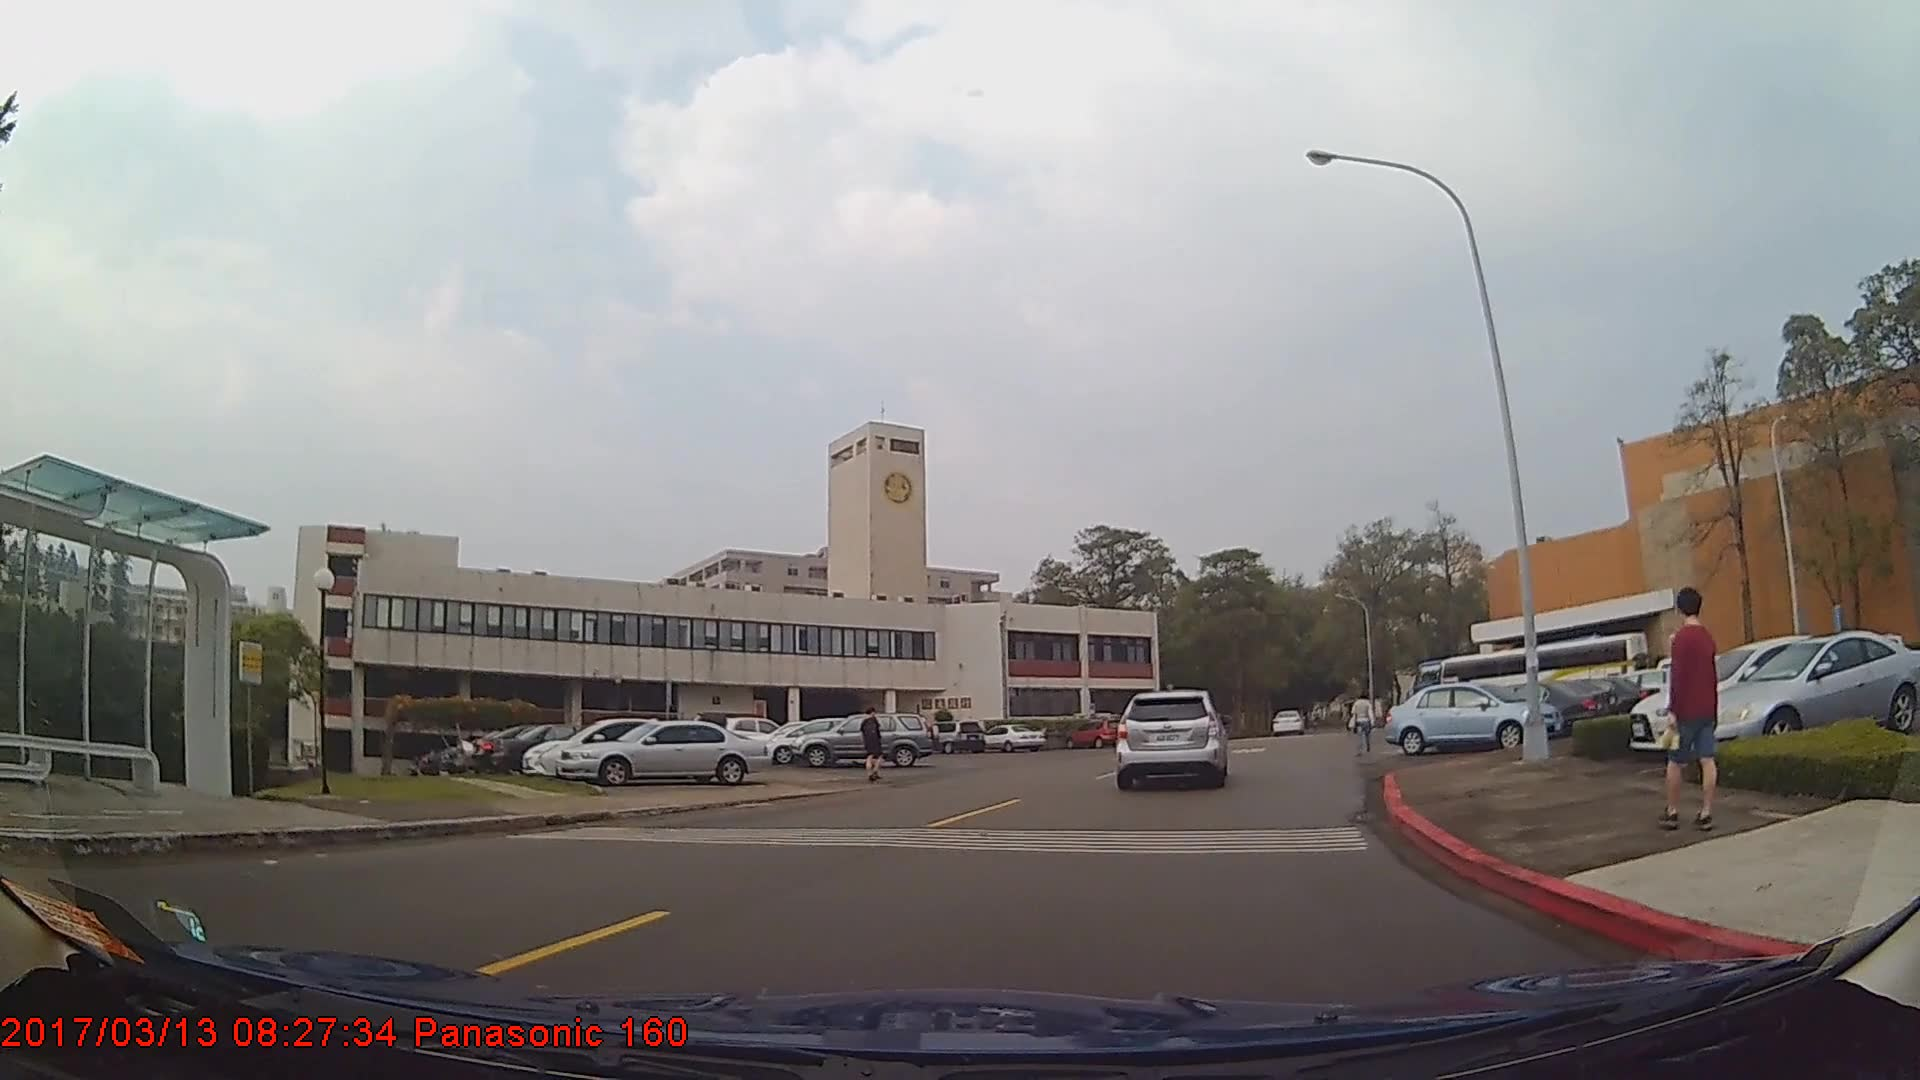pedestrian: (1668, 585, 1726, 822), (1350, 690, 1379, 756), (861, 706, 885, 783)
vehicle: (1625, 629, 1879, 747), (1696, 627, 1919, 752), (553, 714, 770, 783), (518, 712, 730, 775), (1380, 680, 1560, 753), (1116, 688, 1226, 791), (1443, 675, 1617, 735), (788, 707, 937, 764), (481, 721, 634, 776), (919, 715, 984, 750), (977, 719, 1045, 750), (1064, 715, 1126, 748), (1273, 704, 1302, 730)
